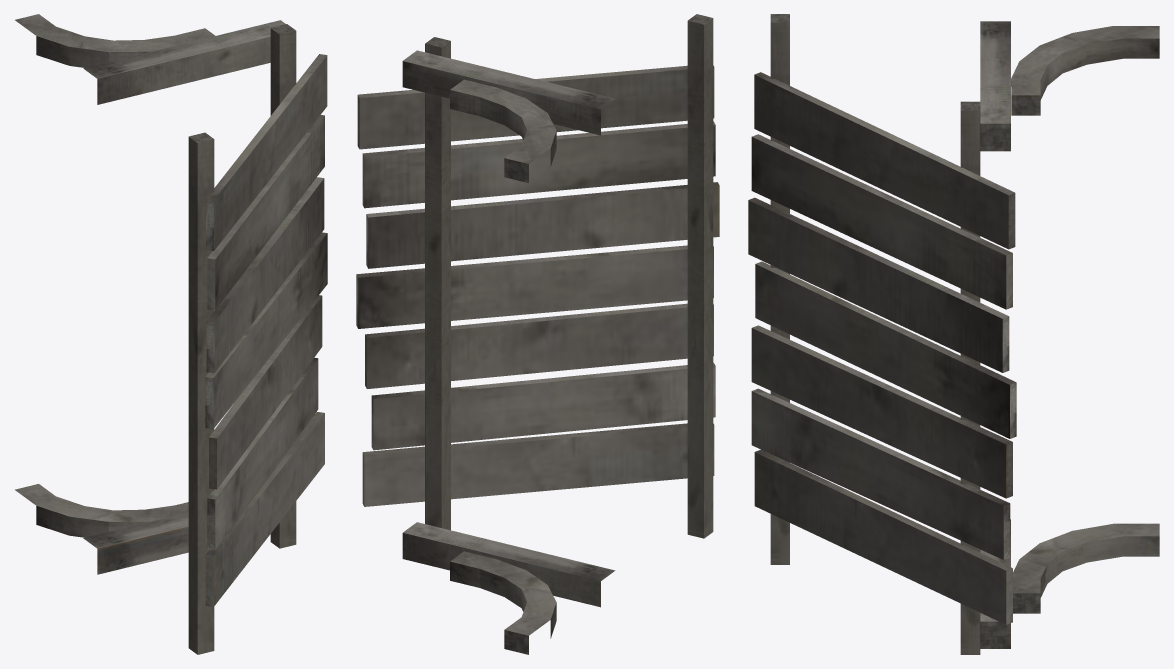
Rendered from awning_desert_wood1.glb.
3 renders of one model, left to right at view 1: azimuth 30°, elevation 25°; view 2: azimuth 150°, elevation 25°; view 3: azimuth 270°, elevation 25°, orthographic. The views are drawn at different scales.
Bounding box in the file's own units: 30.71 × 61.8 × 42.31.
1 material, 1 textured.
